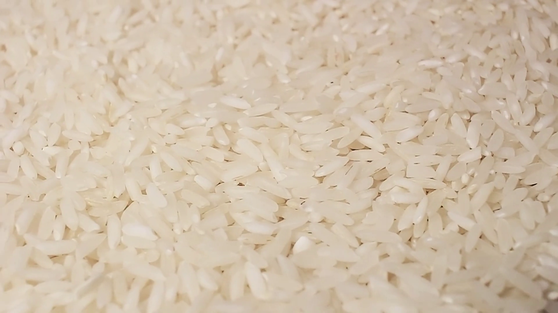rice: (32, 13, 443, 265)
